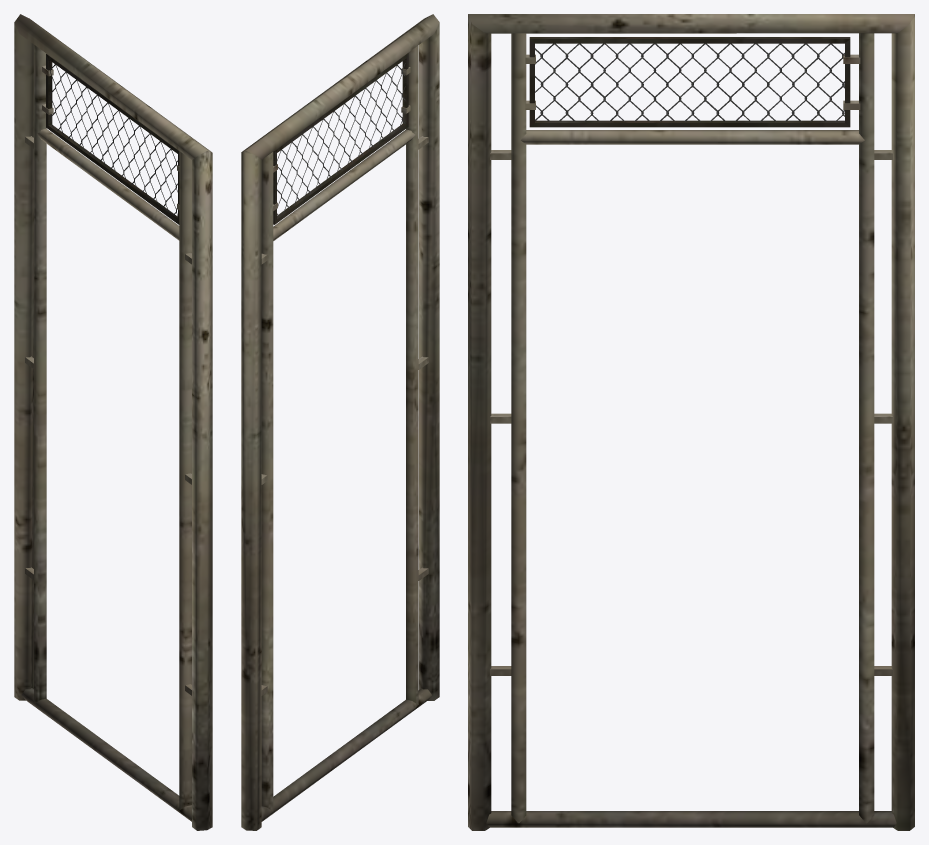
Rendered from interior_fence002e.glb.
3 renders of one model, left to right at view 1: azimuth 30°, elevation 25°; view 2: azimuth 150°, elevation 25°; view 3: azimuth 270°, elevation 25°, orthographic. The views are drawn at different scales.
Visible parts, largest first — view 1: 0_prison_yard001, 1_fence_alpha; view 2: 0_prison_yard001, 1_fence_alpha; view 3: 0_prison_yard001, 1_fence_alpha.
Part boxes in pixels (bbox=[...]): 0_prison_yard001: bbox=[14, 14, 212, 830]; 1_fence_alpha: bbox=[49, 64, 177, 216]; 0_prison_yard001: bbox=[241, 14, 439, 830]; 1_fence_alpha: bbox=[277, 63, 405, 216]; 0_prison_yard001: bbox=[468, 14, 914, 830]; 1_fence_alpha: bbox=[535, 43, 844, 121].
Size of the model in its own units: 0.0775 by 3.26 by 1.63.
2 materials, 2 textured.
